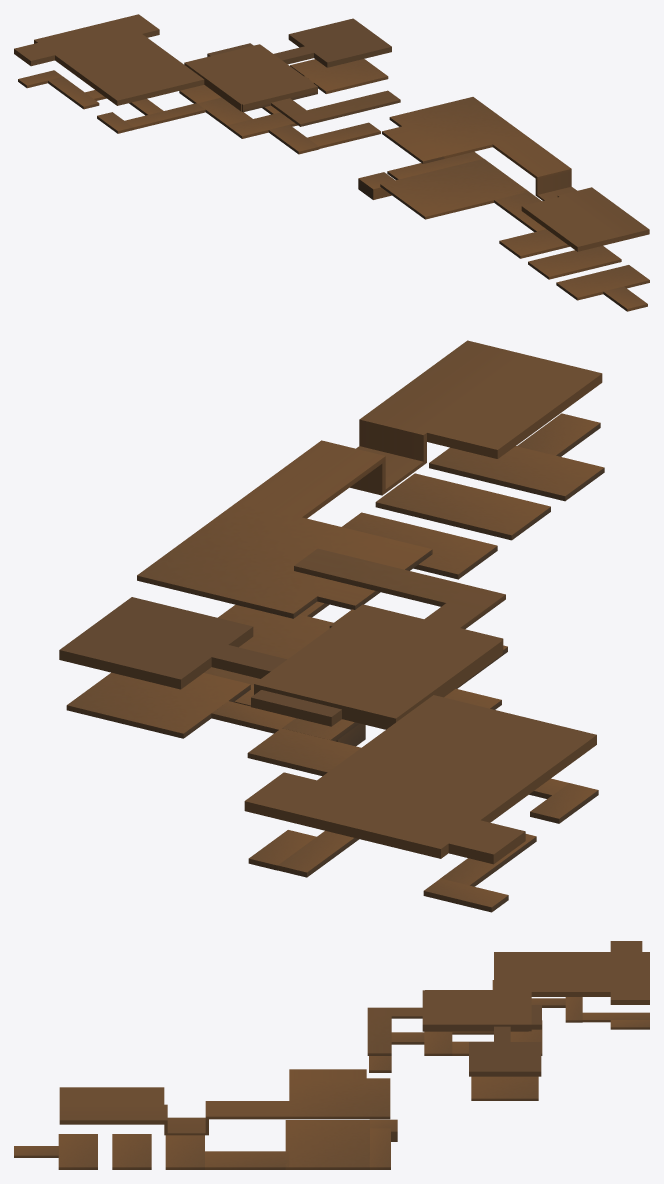
File: S_Suelo.obj
3 renders of one model, top to bottom at view 1: azimuth 30°, elevation 25°; view 2: azimuth 150°, elevation 25°; view 3: azimuth 270°, elevation 25°, orthographic. The views are drawn at different scales.
Parts seen in each view (by area): view 1: S_Techo2, S_Techo, S_Suelo6, S_Suelo22, S_Suelo3, S_Suelo2, S_Suelo4, S_Suelo9, S_Suelo23, S_Suelo7, S_Suelo5, S_Suelo13 (+7 smaller); view 2: S_Techo2, S_Techo, S_Suelo22, S_Suelo3, S_Suelo2, S_Suelo4, S_Suelo6, S_Suelo12, S_Suelo1, S_Suelo17, S_Suelo20, S_Suelo14 (+4 smaller); view 3: S_Techo2, S_Techo, S_Suelo6, S_Suelo22, S_Suelo5, S_Suelo3, S_Suelo2, S_Suelo4, S_Suelo23, S_Suelo9, S_Suelo17, S_Suelo1 (+6 smaller).
Boxes of the visible parts, x1,y1,x2,y2 form: S_Techo2: (14, 14, 400, 126); S_Techo: (382, 97, 649, 251); S_Suelo6: (380, 159, 527, 219); S_Suelo22: (290, 59, 388, 93); S_Suelo3: (528, 246, 621, 279); S_Suelo2: (556, 265, 649, 300); S_Suelo4: (499, 229, 569, 258); S_Suelo9: (227, 112, 297, 138); S_Suelo23: (387, 151, 483, 179); S_Suelo7: (307, 122, 380, 148); S_Suelo5: (494, 190, 545, 232); S_Suelo13: (124, 103, 205, 129); S_Techo2: (59, 548, 596, 864); S_Techo: (137, 340, 602, 618); S_Suelo22: (66, 672, 250, 738); S_Suelo3: (375, 473, 550, 540); S_Suelo2: (429, 446, 604, 501); S_Suelo4: (342, 512, 497, 579); S_Suelo6: (204, 604, 333, 685); S_Suelo12: (247, 728, 360, 776); S_Suelo1: (517, 413, 600, 456); S_Suelo17: (277, 830, 359, 877); S_Suelo20: (423, 878, 508, 912); S_Suelo14: (530, 783, 598, 823); S_Techo2: (367, 941, 649, 1076); S_Techo: (59, 1069, 390, 1135); S_Suelo6: (285, 1120, 369, 1169); S_Suelo22: (471, 1076, 538, 1100); S_Suelo5: (205, 1151, 289, 1169); S_Suelo3: (112, 1134, 151, 1169); S_Suelo2: (58, 1134, 97, 1169); S_Suelo4: (165, 1135, 204, 1169); S_Suelo23: (369, 1128, 390, 1169); S_Suelo9: (424, 1031, 452, 1055); S_Suelo17: (582, 1012, 649, 1022); S_Suelo1: (14, 1146, 58, 1157).
Size of the model in its own units: 62.57 by 18.28 by 113.
